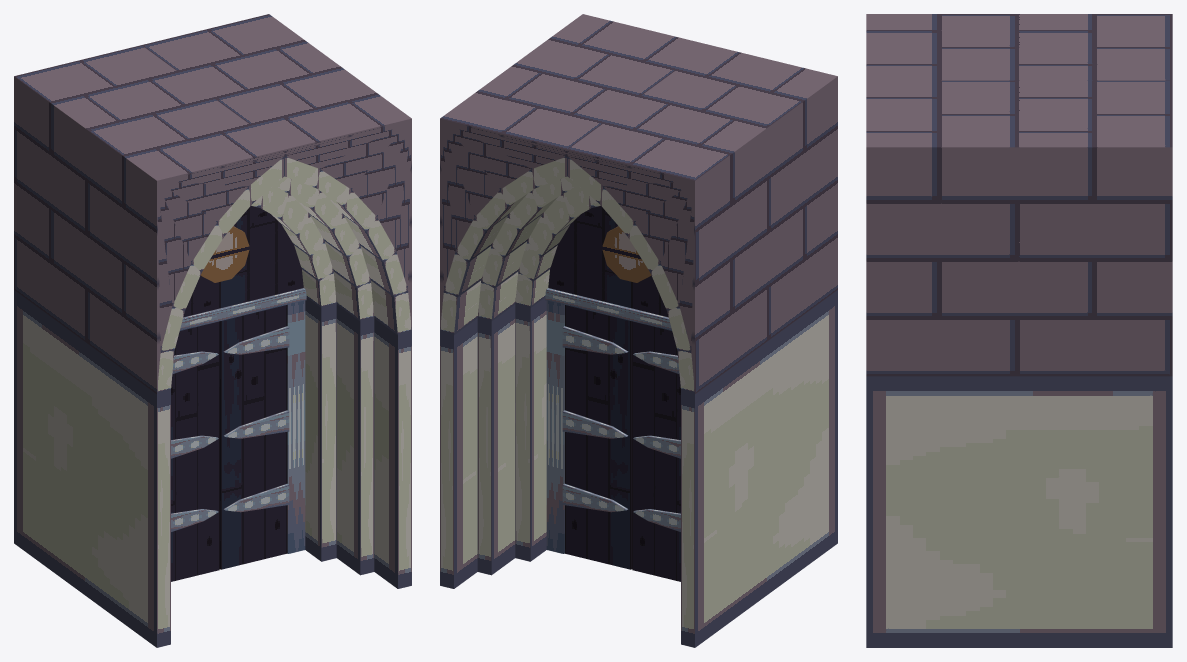
Rendered from door_boss.glb.
3 views of the same model, side by side, from view 1: azimuth 30°, elevation 25°; view 2: azimuth 150°, elevation 25°; view 3: azimuth 270°, elevation 25° (orthographic). The views are drawn at different scales.
Visible parts, largest first — view 1: portal, leaf_a, leaf_b; view 2: portal, leaf_a, leaf_b; view 3: portal.
Part boxes in pixels (left/top/right/bottom): portal: left=14, top=14, right=411, bottom=647; leaf_a: left=219, top=305, right=289, bottom=569; leaf_b: left=171, top=321, right=219, bottom=581; portal: left=440, top=14, right=837, bottom=647; leaf_a: left=562, top=305, right=632, bottom=569; leaf_b: left=632, top=321, right=680, bottom=581; portal: left=866, top=14, right=1172, bottom=647.
Bounding box in the file's own units: 2 × 3.5 × 1.94.
Materials: 1 (1 with a texture image).
